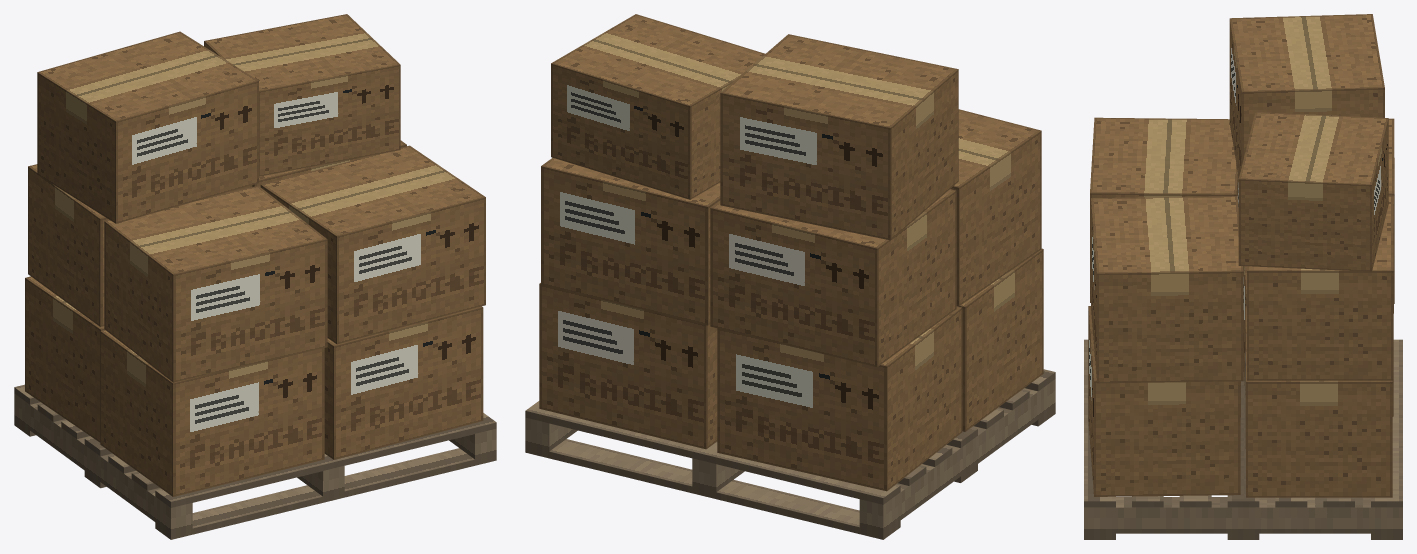
File: pallet_boxes.glb
3 views of the same model, side by side, from view 1: azimuth 30°, elevation 25°; view 2: azimuth 150°, elevation 25°; view 3: azimuth 270°, elevation 25° (orthographic). The views are drawn at different scales.
Visible parts, largest first — view 1: PalletBoxes; view 2: PalletBoxes; view 3: PalletBoxes.
Part boxes in pixels (box(x1,y1,x2,y2)): PalletBoxes: box(14, 14, 496, 539); PalletBoxes: box(525, 14, 1055, 539); PalletBoxes: box(1084, 14, 1402, 539).
Bounding box in the file's own units: 1.2 × 1.27 × 1.
Materials: 2 (2 with a texture image).
